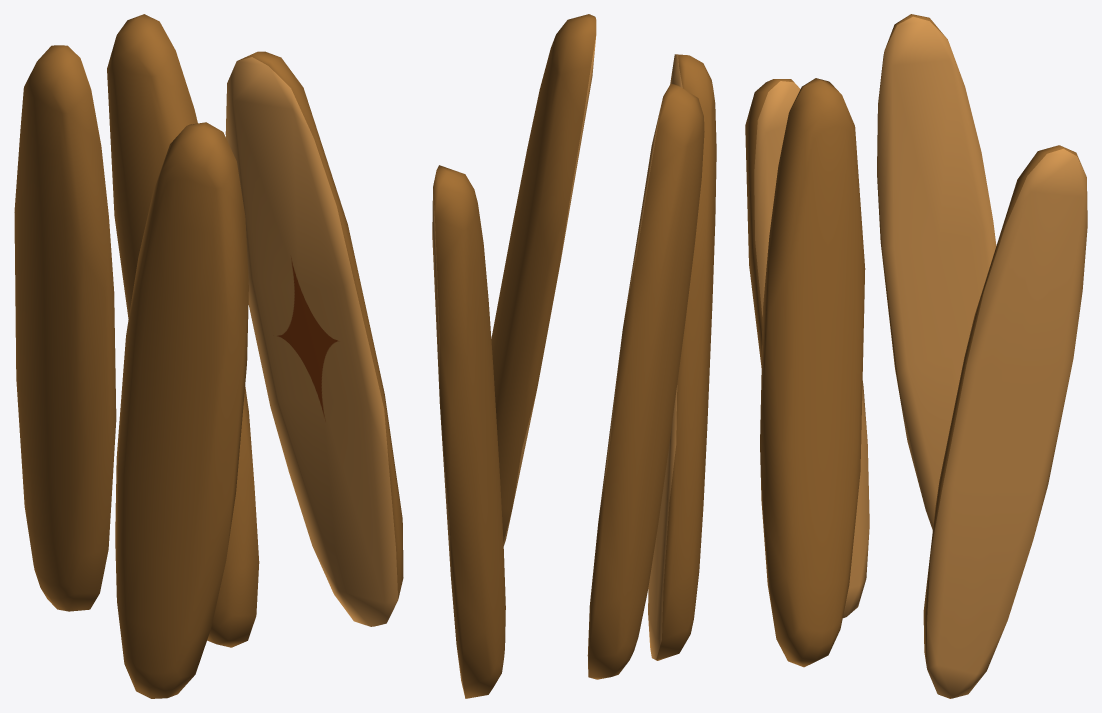
The model's file is yoot-animation-2-korean-darker.glb.
The picture shows the model from 3 angles, left to right: view 1: azimuth 30°, elevation 25°; view 2: azimuth 150°, elevation 25°; view 3: azimuth 270°, elevation 25°; orthographic projection. The views are drawn at different scales.
Visible parts, largest first — view 1: yoot1, yoot0, yoot2, yoot3; view 2: yoot2, yoot3, yoot0, yoot1; view 3: yoot3, yoot0, yoot2, yoot1.
Part boxes in pixels (x1,y1,x2,y2): yoot1: (115,122,248,698); yoot0: (225,51,403,626); yoot2: (14,45,116,611); yoot3: (107,14,259,647); yoot2: (587,83,704,679); yoot3: (432,165,505,698); yoot0: (491,14,596,545); yoot1: (648,54,716,660); yoot3: (923,145,1087,698); yoot0: (760,78,865,667); yoot2: (877,14,996,530); yoot1: (745,79,869,618).
Bounding box in the file's own units: 6.57 × 13.74 × 7.1.
Materials: 4 (4 with a texture image).
